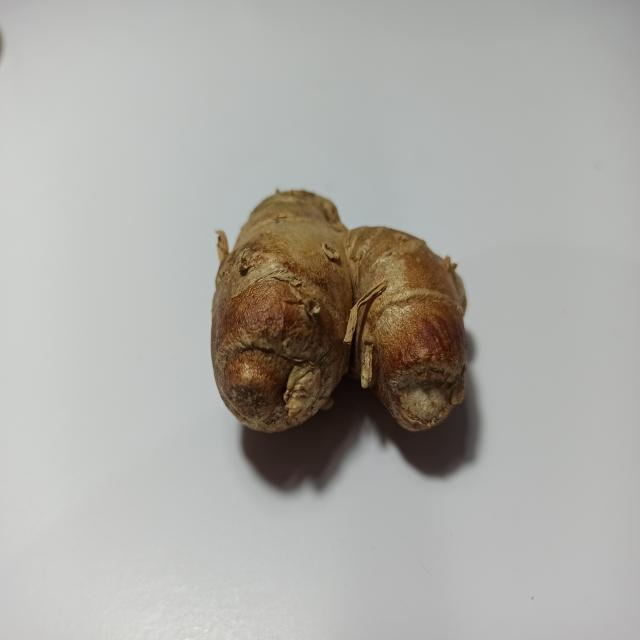ginger: (209, 174, 487, 432)
